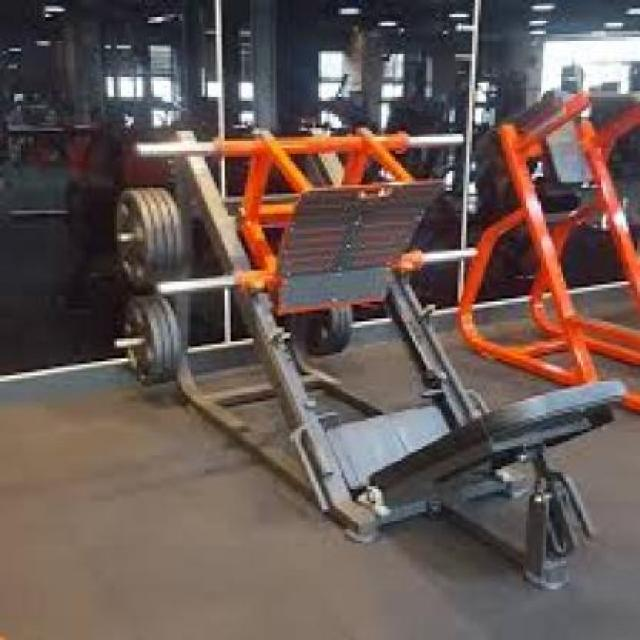leg press: (74, 86, 640, 632)
